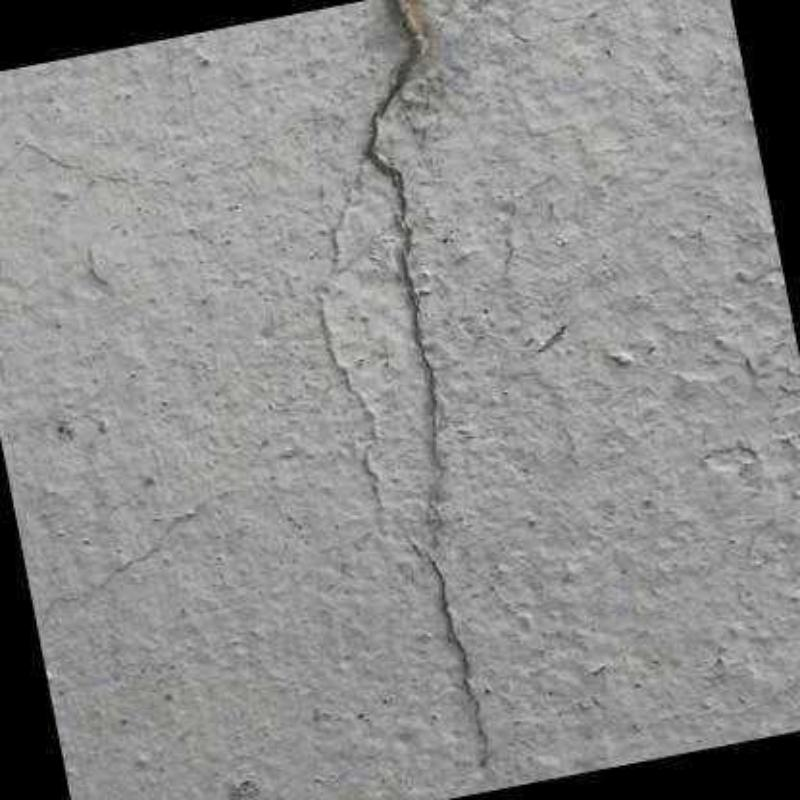crack: (363, 0, 444, 464), (35, 477, 243, 637), (409, 535, 490, 763)
